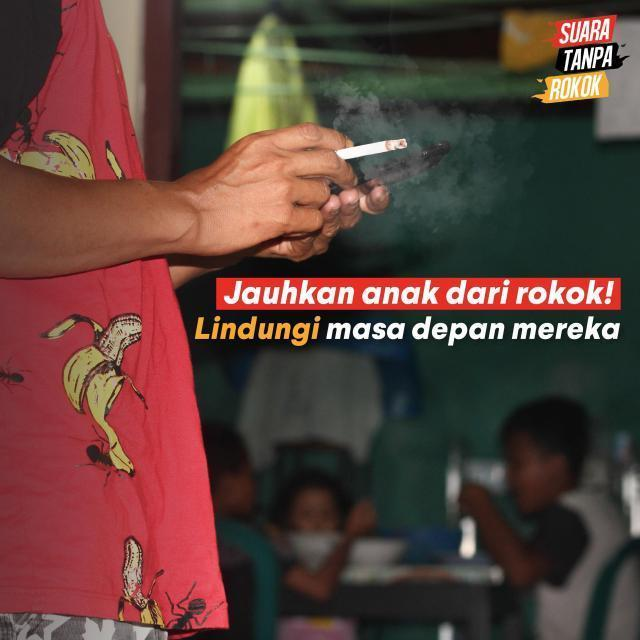rokok: (328, 136, 414, 160)
